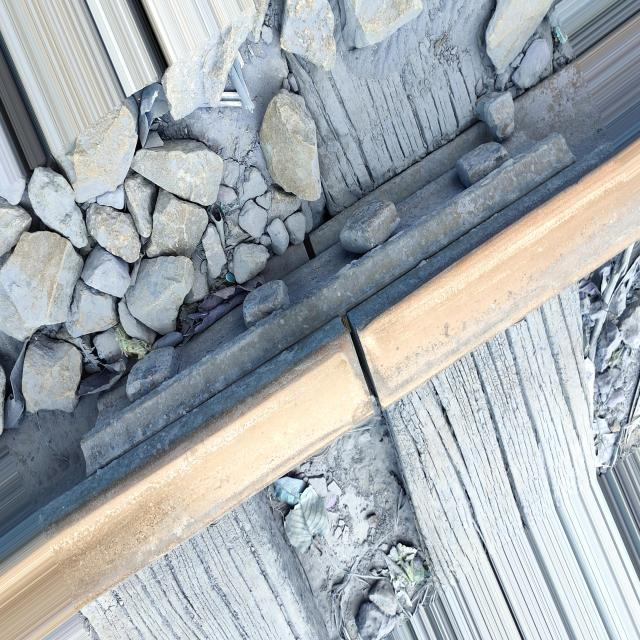Good Joint: (81, 131, 575, 476)
